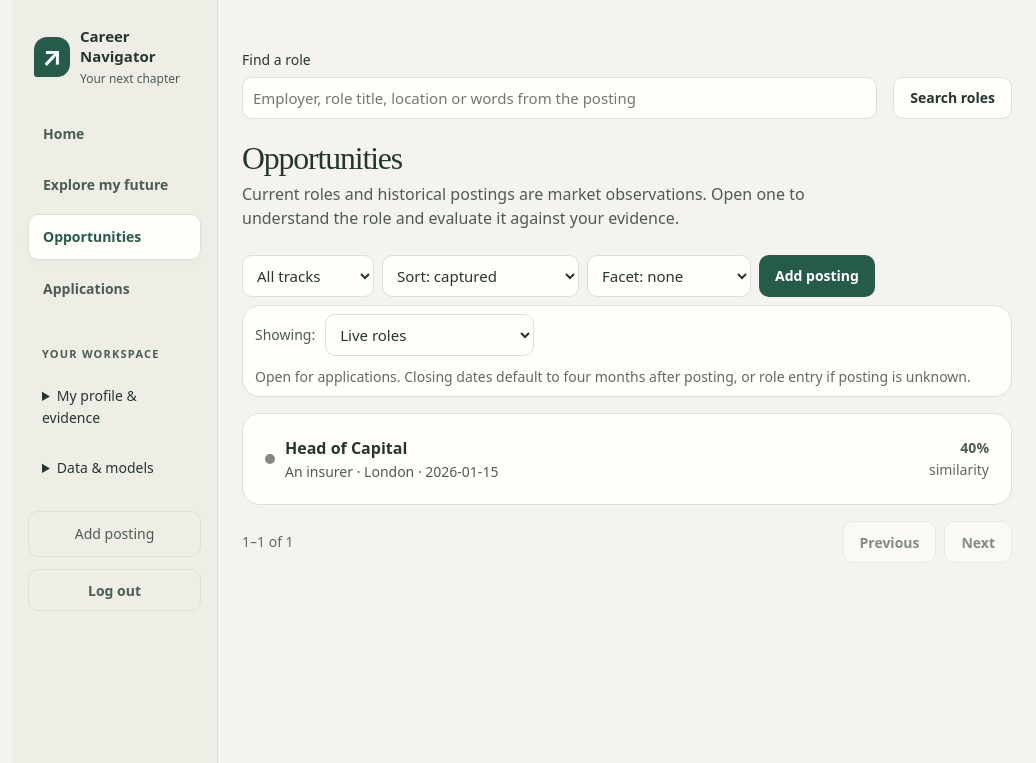
Test: ordinary Opportunities journey is unchanged › highlights Opportunities and shows no application UI
The image size is (1036, 763).
Click the text "Head of Capital": [346, 448] box [285,437,407,459]
(page scrolled)
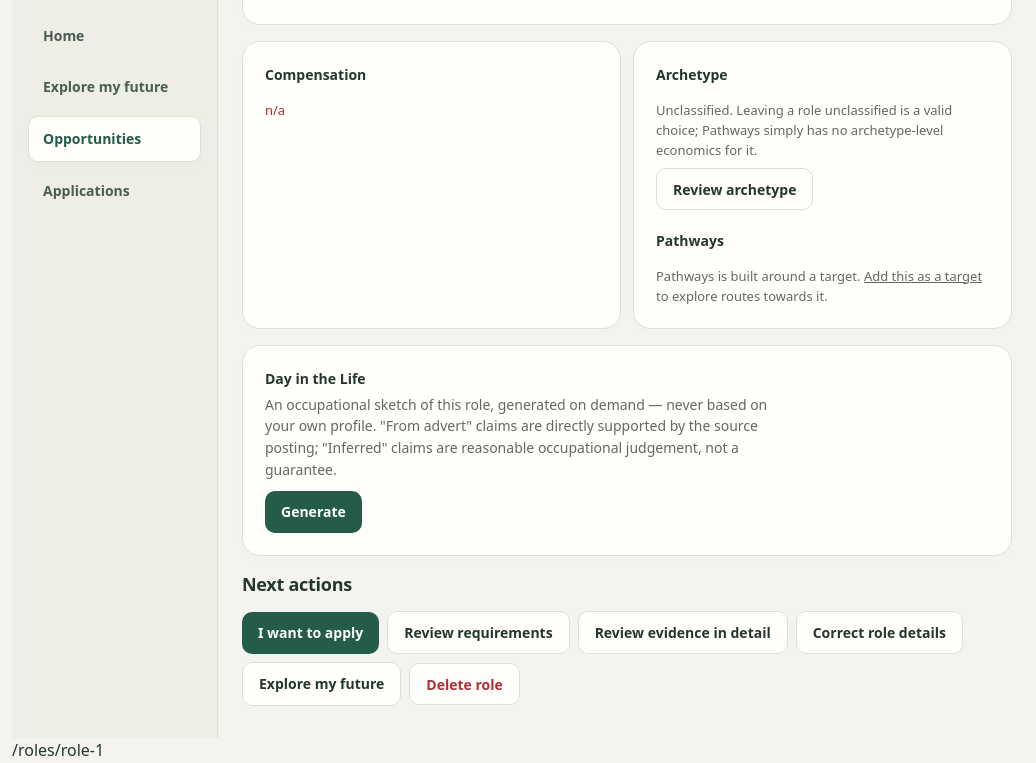
Result: the text with test id "loc" reads "/roles/role-1" at [12,739,104,761]
Result: the button "I want to apply" is shown at [242,612,379,654]
